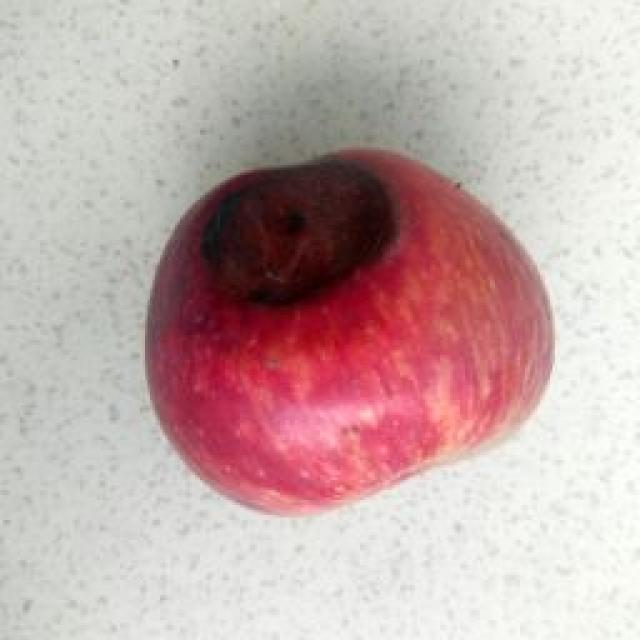Bad_Apple: (148, 150, 551, 512)
